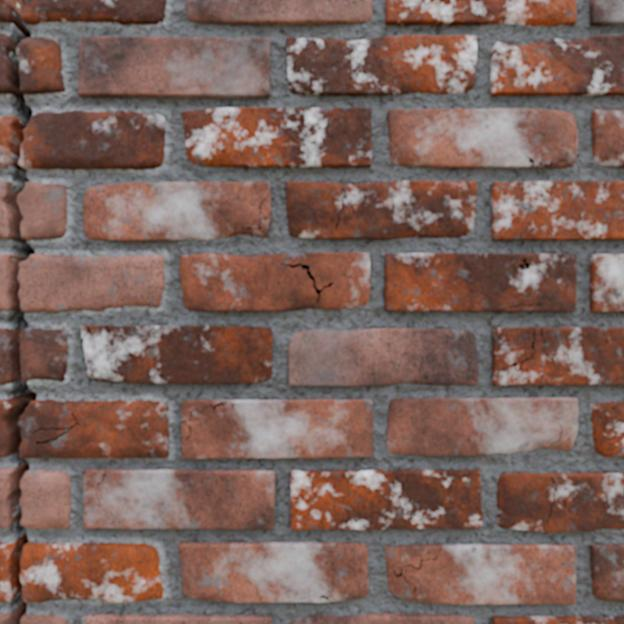brick: (78, 37, 269, 97), (386, 544, 575, 604), (291, 470, 481, 529), (84, 469, 273, 528), (287, 36, 476, 95), (179, 542, 367, 601), (388, 109, 576, 167), (183, 108, 370, 166), (83, 182, 270, 240), (287, 181, 476, 238), (180, 253, 369, 310), (182, 400, 371, 457), (388, 398, 577, 455), (385, 254, 575, 310), (289, 329, 477, 385), (84, 326, 272, 382), (491, 35, 623, 95), (492, 181, 623, 239), (492, 328, 623, 384), (497, 473, 623, 531), (386, 0, 575, 25), (186, 0, 371, 24), (590, 255, 623, 311), (590, 545, 623, 600), (591, 110, 623, 166), (591, 402, 623, 456), (291, 614, 473, 623), (82, 615, 271, 623), (493, 616, 623, 623), (590, 0, 623, 25), (182, 400, 220, 419), (82, 326, 85, 334)
broken_brick: (20, 399, 169, 458), (20, 109, 165, 169), (21, 542, 163, 603), (19, 253, 164, 312), (23, 0, 166, 25), (21, 469, 71, 528), (18, 181, 67, 239), (17, 36, 65, 94), (21, 328, 68, 381), (0, 467, 13, 528), (0, 115, 15, 167), (0, 542, 12, 602), (0, 398, 10, 457), (0, 253, 10, 310), (0, 32, 9, 94), (0, 327, 9, 385), (0, 180, 8, 238), (22, 614, 67, 623), (0, 0, 10, 23), (0, 612, 9, 623)
crack: (2, 0, 37, 623), (181, 400, 235, 442), (508, 327, 535, 372), (105, 325, 135, 361), (246, 198, 270, 230), (526, 155, 564, 168), (496, 303, 543, 312), (95, 470, 107, 495), (82, 325, 90, 342), (319, 594, 332, 602), (573, 133, 576, 144), (82, 469, 87, 474)
